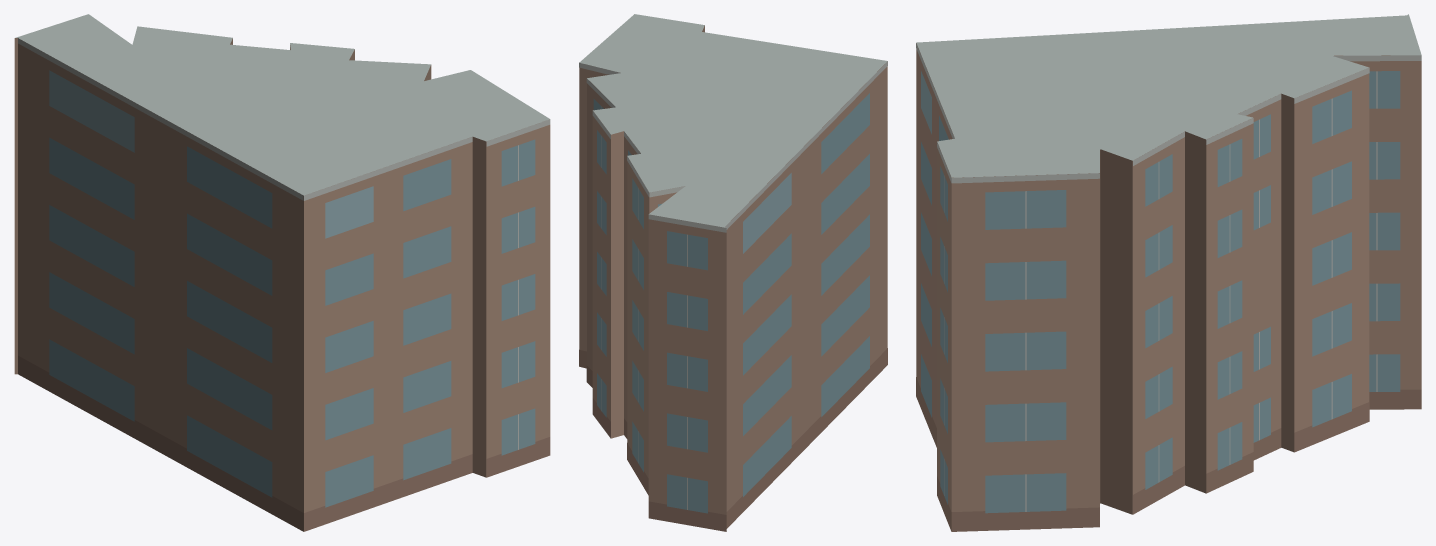
The model's file is survey-upis-32889443.glb.
3 renders of one model, left to right at view 1: azimuth 30°, elevation 25°; view 2: azimuth 150°, elevation 25°; view 3: azimuth 270°, elevation 25°, orthographic. The views are drawn at different scales.
Visible parts, largest first — view 1: survey-upis-32889443.tmp; view 2: survey-upis-32889443.tmp; view 3: survey-upis-32889443.tmp.
Boxes of the visible parts, box(x1,y1,x2,y2) form: survey-upis-32889443.tmp: box(14, 14, 550, 531); survey-upis-32889443.tmp: box(579, 14, 887, 531); survey-upis-32889443.tmp: box(916, 14, 1421, 531).
Size of the model in its own units: 15.09 by 15.2 by 19.67.
